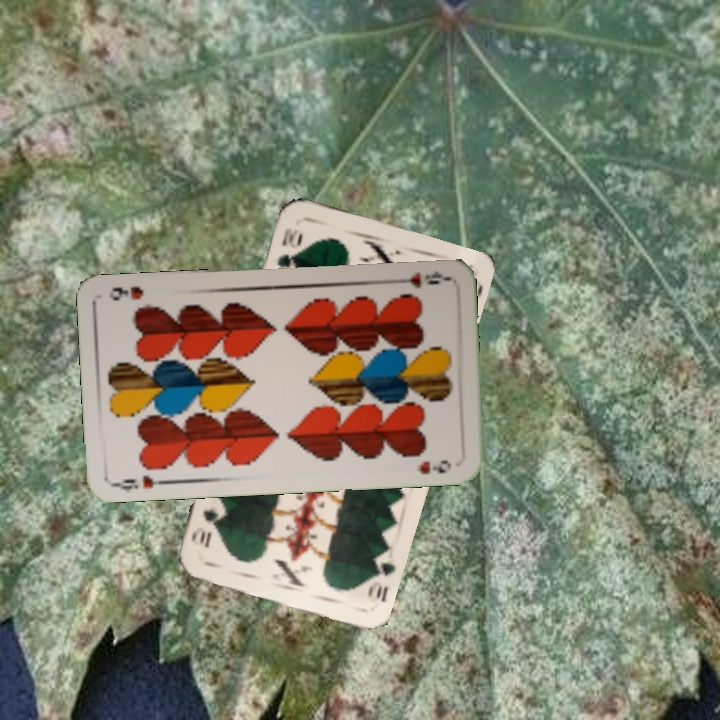G10: (363, 548, 398, 605), (273, 223, 306, 273)
H9: (391, 267, 450, 291), (110, 471, 170, 494)
